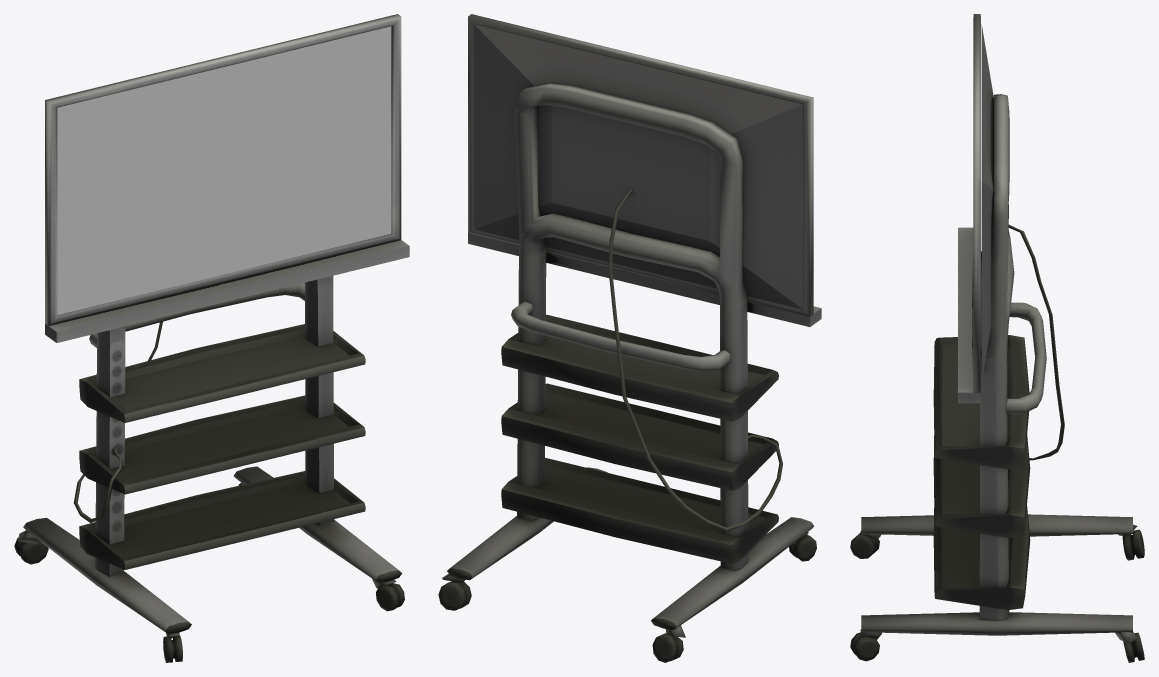
Rendered from SM_TV_Standing.FBX.
3 views of the same model, side by side, from view 1: azimuth 30°, elevation 25°; view 2: azimuth 150°, elevation 25°; view 3: azimuth 270°, elevation 25° (orthographic). The views are drawn at different scales.
Parts seen in each view (by area): view 1: SM_TV_Standing; view 2: SM_TV_Standing; view 3: SM_TV_Standing.
Boxes of the visible parts, bbox=[...] form: SM_TV_Standing: bbox=[14, 14, 409, 662]; SM_TV_Standing: bbox=[438, 14, 821, 662]; SM_TV_Standing: bbox=[850, 14, 1144, 662].
Bounding box in the file's own units: 117 × 88.48 × 170.
